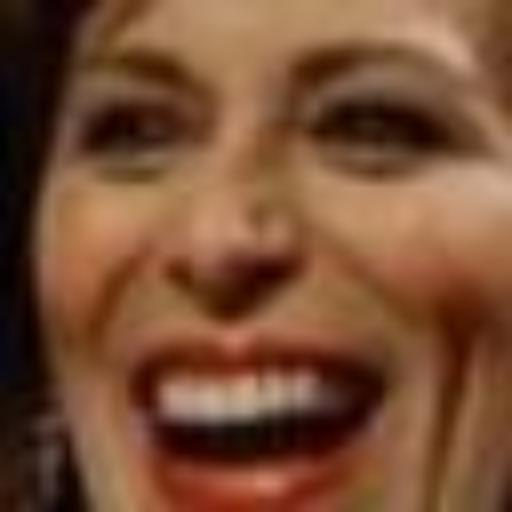left_eye: (300, 92, 469, 169)
left_lip_corner: (361, 364, 419, 421)
right_eye: (71, 99, 189, 161)
